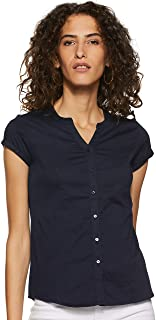shirt: (1, 103, 155, 306)
